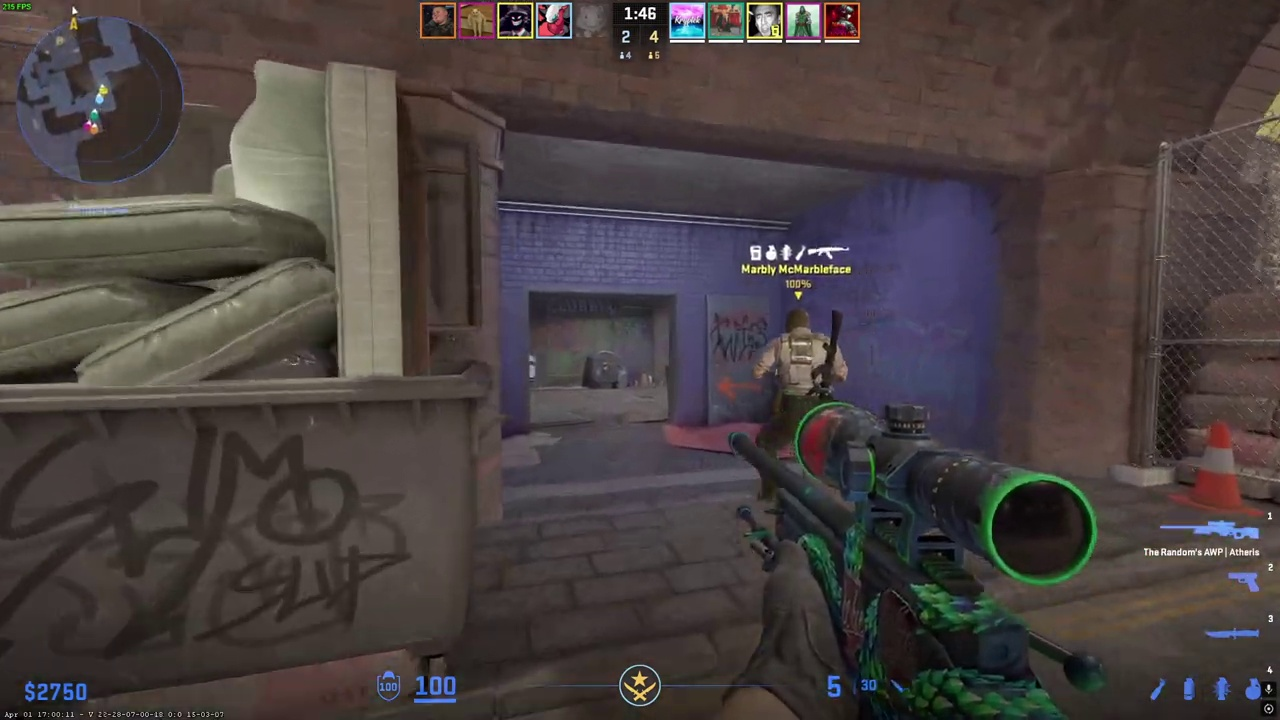Terrorist: (760, 307, 839, 436)
